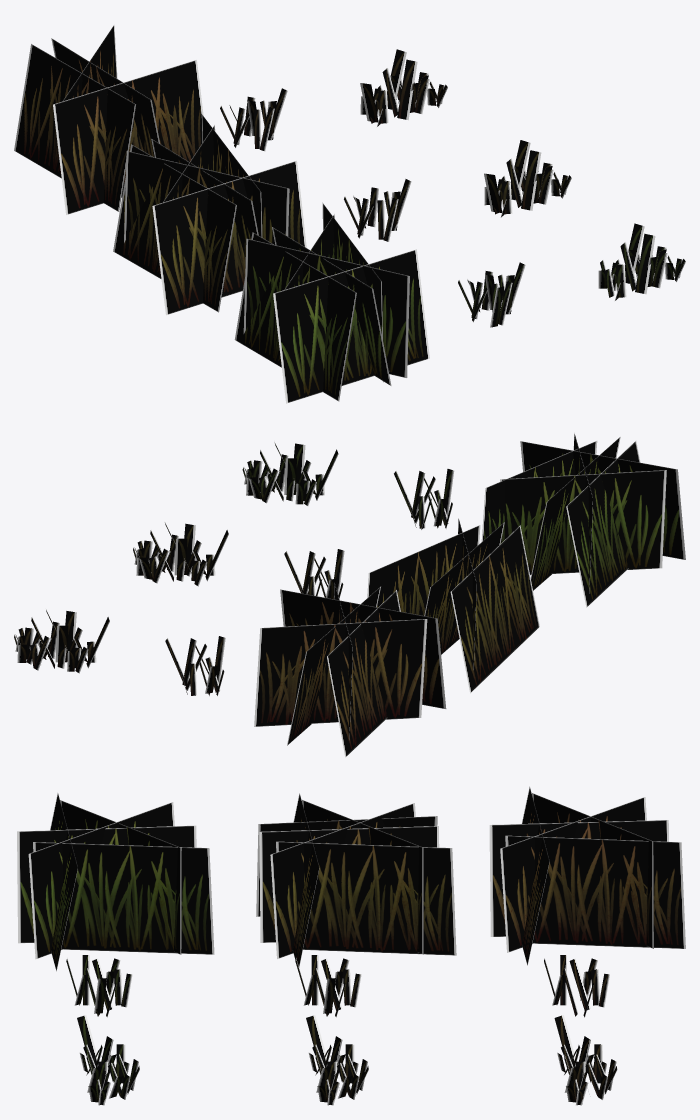
The model's file is Grass_Pack_LP.glb.
The picture shows the model from 3 angles, top to bottom: view 1: azimuth 30°, elevation 25°; view 2: azimuth 150°, elevation 25°; view 3: azimuth 270°, elevation 25°; orthographic projection. The views are drawn at different scales.
Parts seen in each view (by area): view 1: green-material (×3), mid-material (×3), yellow-material (×3); view 2: yellow-material (×3), green-material (×3), mid-material (×3); view 3: mid-material (×3), green-material (×3), yellow-material (×3).
Boxes of the visible parts, bbox=[...] form: green-material (×3): bbox=[234, 202, 685, 403]; mid-material (×3): bbox=[113, 114, 571, 315]; yellow-material (×3): bbox=[14, 25, 447, 214]; yellow-material (×3): bbox=[14, 583, 446, 757]; green-material (×3): bbox=[242, 433, 685, 607]; mid-material (×3): bbox=[133, 518, 539, 693]; mid-material (×3): bbox=[256, 793, 456, 1105]; green-material (×3): bbox=[17, 793, 214, 1105]; yellow-material (×3): bbox=[489, 786, 685, 1105].
Size of the model in its own units: 2.78 by 0.7708 by 3.74.
3 materials, 3 textured.
